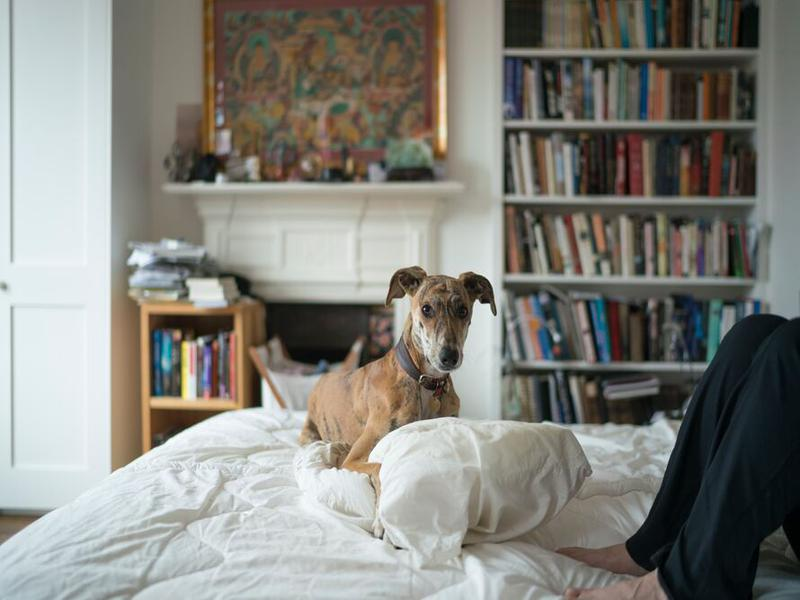dog_down: (299, 263, 501, 548)
